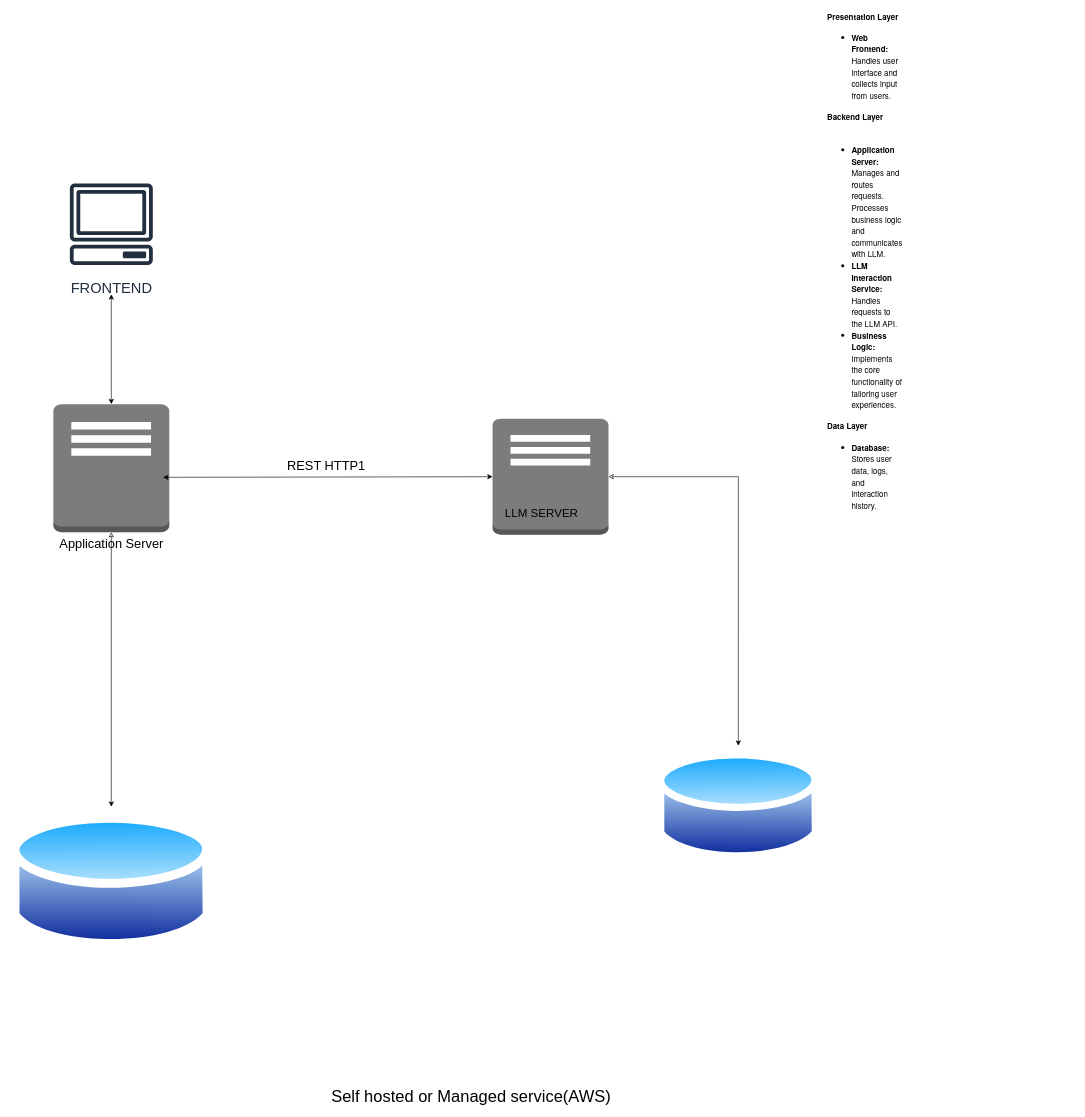
The diagram is 1085 pixels wide and 1117 high, and some of its shapes have lost their labels. The shapes that lost their labels are listed below. From the top down, each one's centre as x and y in pixels, then its label:
At point (738, 805): "LLM DATABASE??".
At point (111, 880): "Database".
